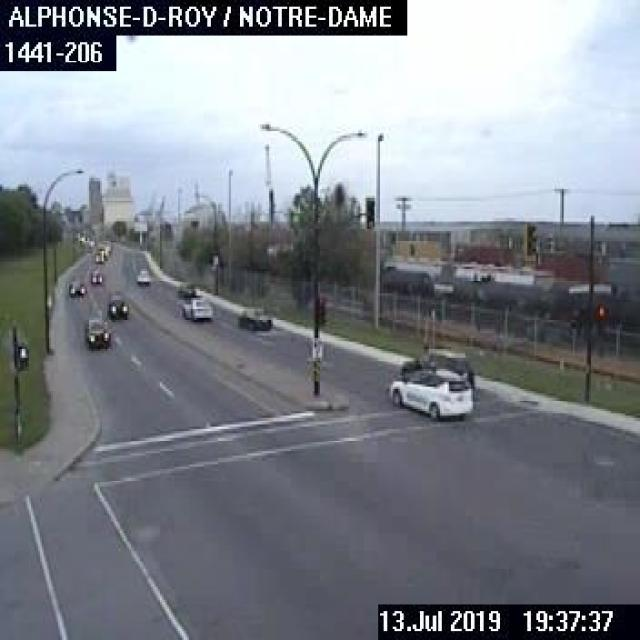vehicle: (387, 364, 471, 418), (398, 341, 469, 372), (84, 314, 112, 346), (104, 290, 132, 321), (177, 296, 212, 318), (236, 307, 268, 329), (177, 280, 206, 297), (134, 264, 151, 284), (66, 278, 84, 296), (88, 268, 106, 282), (92, 248, 104, 263)
